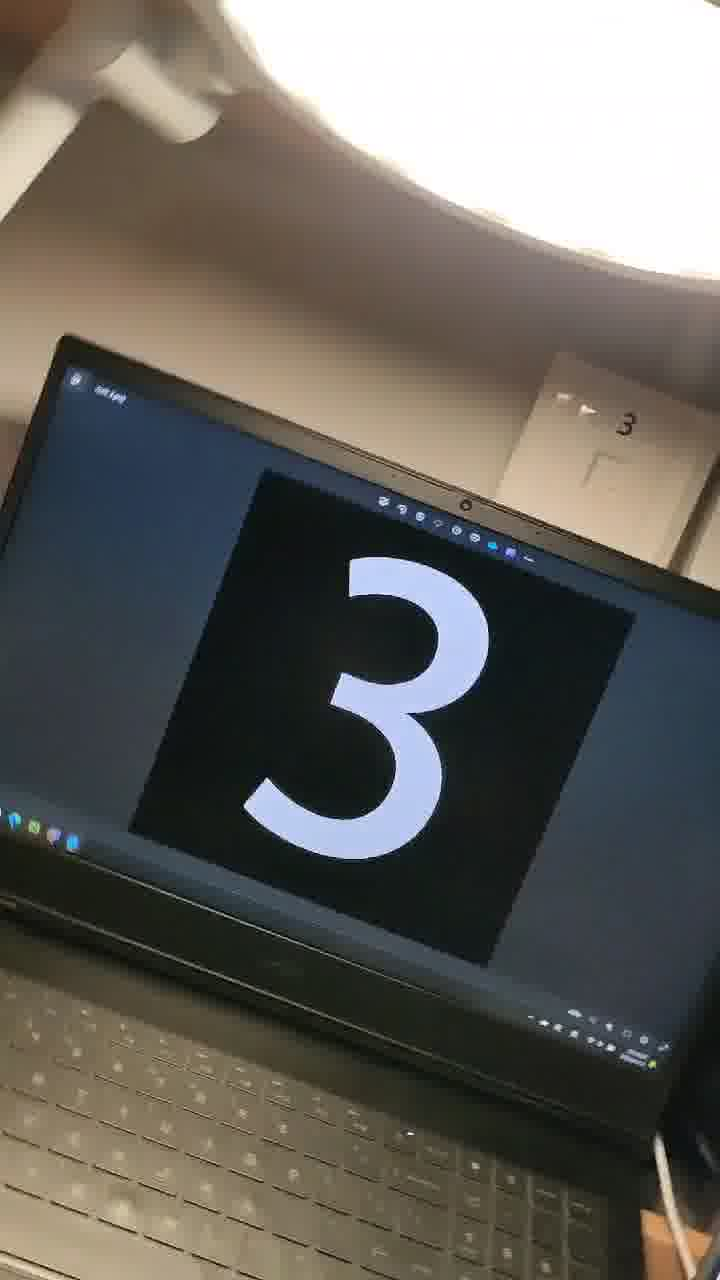three: (226, 509, 536, 942)
